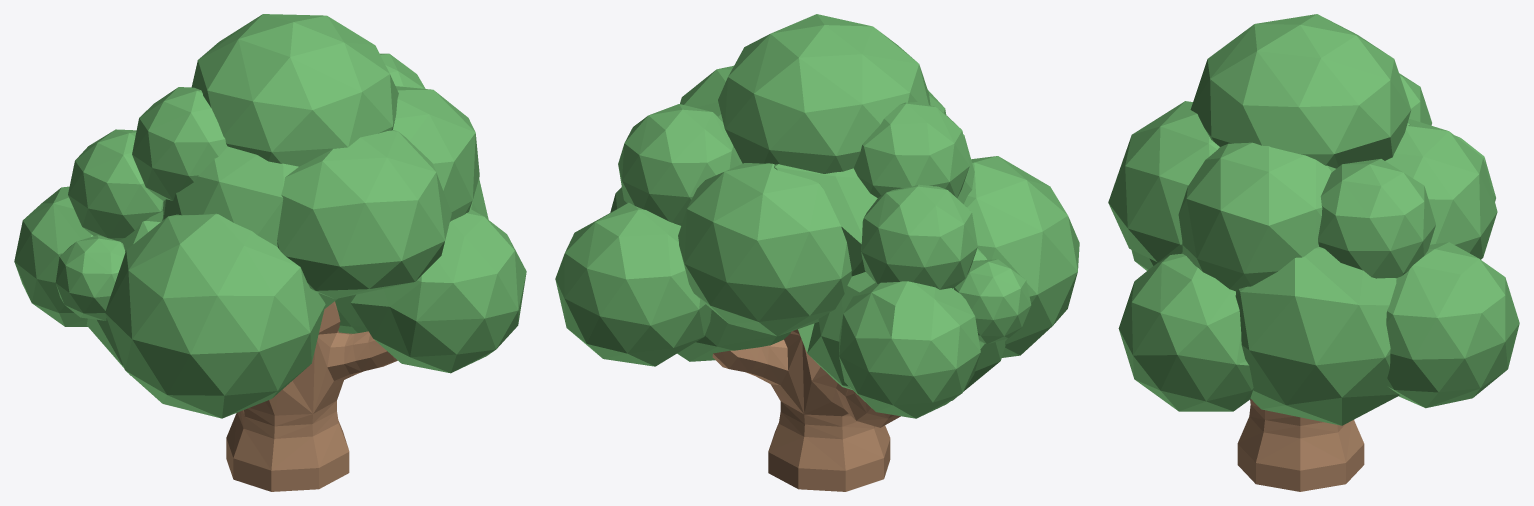
Rendered from nat_tree.glb.
3 renders of one model, left to right at view 1: azimuth 30°, elevation 25°; view 2: azimuth 150°, elevation 25°; view 3: azimuth 270°, elevation 25°, orthographic.
Parts seen in each view (by area): view 1: geometry_0; view 2: geometry_0; view 3: geometry_0.
Boxes of the visible parts, box(x1,y1,x2,y2) form: geometry_0: box(14, 14, 526, 491); geometry_0: box(555, 14, 1079, 491); geometry_0: box(1108, 14, 1519, 491).
Bounding box in the file's own units: 0.1787 × 0.1826 × 0.1538.
